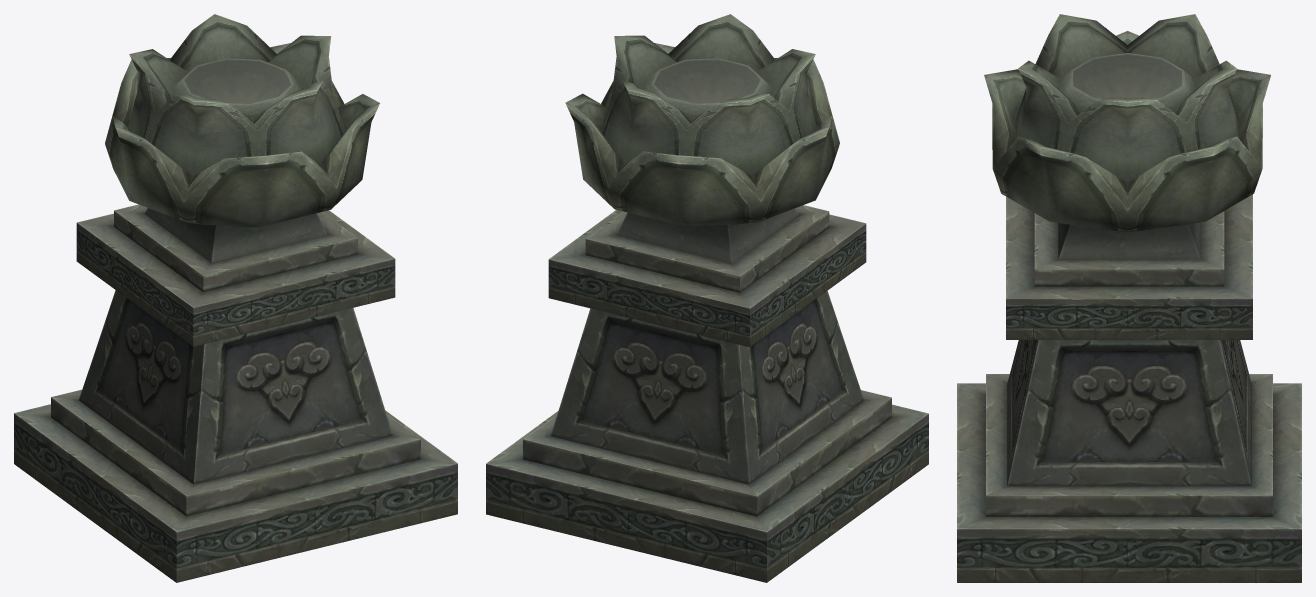
Rendered from deng_004.FBX.
The picture shows the model from 3 angles, left to right: view 1: azimuth 30°, elevation 25°; view 2: azimuth 150°, elevation 25°; view 3: azimuth 270°, elevation 25°; orthographic projection. The views are drawn at different scales.
Visible parts, largest first — view 1: deng_004_a01; view 2: deng_004_a01; view 3: deng_004_a01.
Boxes of the visible parts, box(x1,y1,x2,y2) form: deng_004_a01: box(14, 14, 457, 582); deng_004_a01: box(486, 14, 928, 582); deng_004_a01: box(957, 14, 1301, 582).
Size of the model in its own units: 126 by 184 by 126.
1 material, 1 textured.
